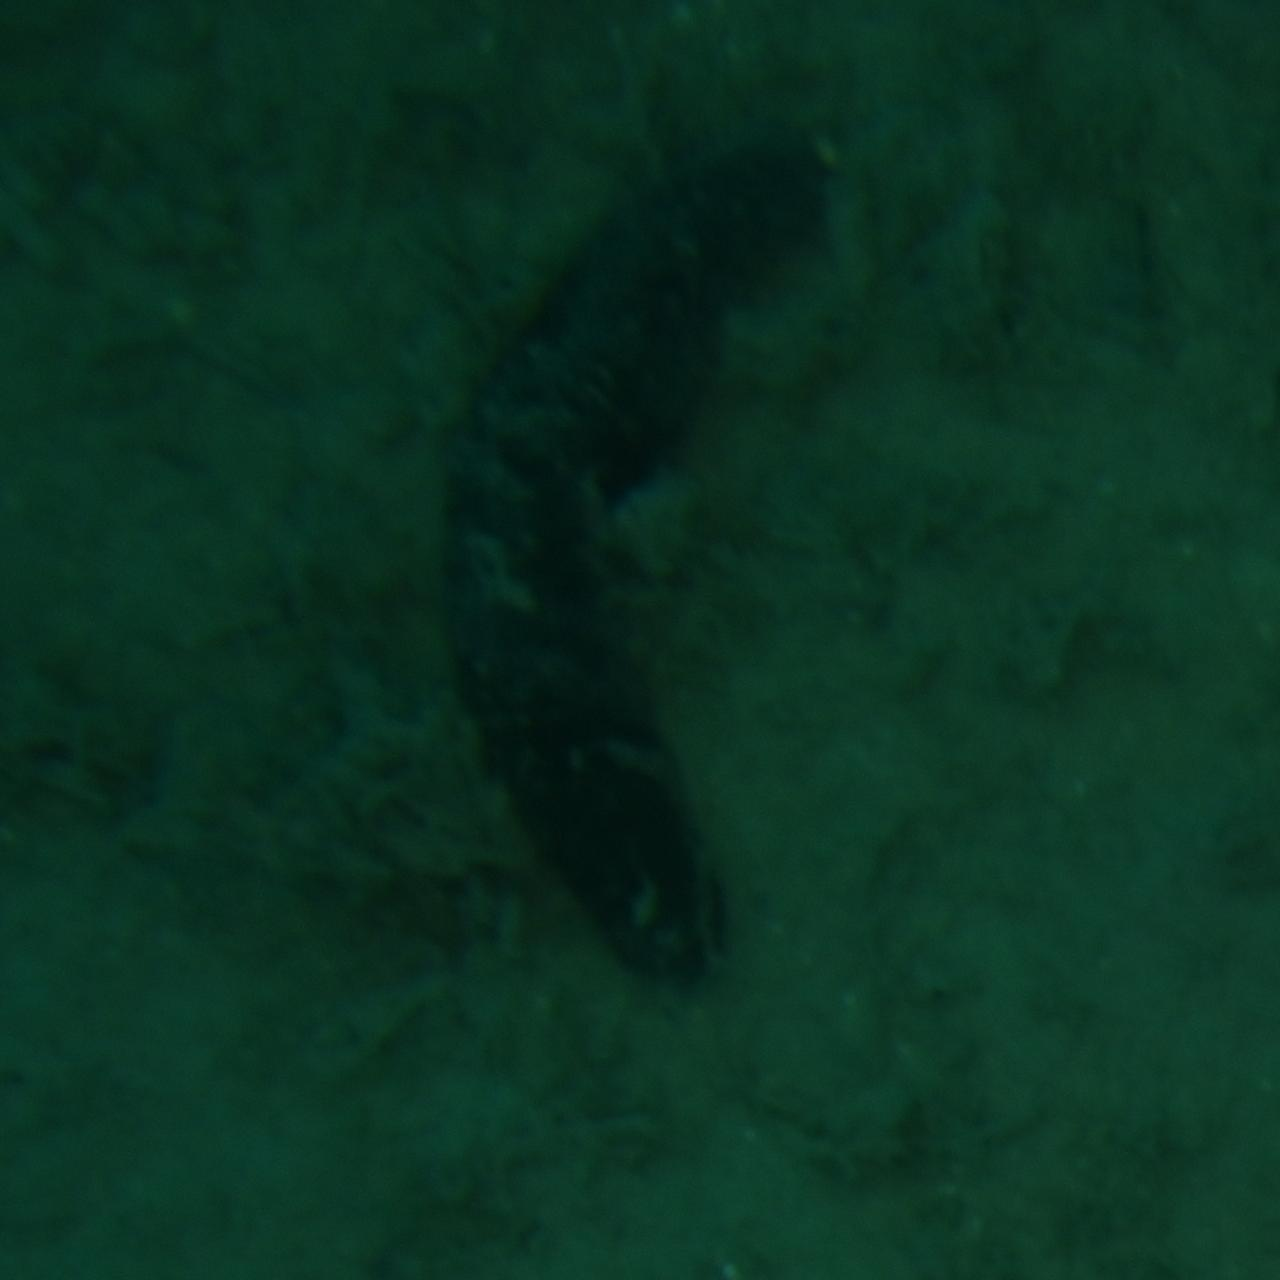Holothuria tubulosa: (434, 100, 846, 1012)
